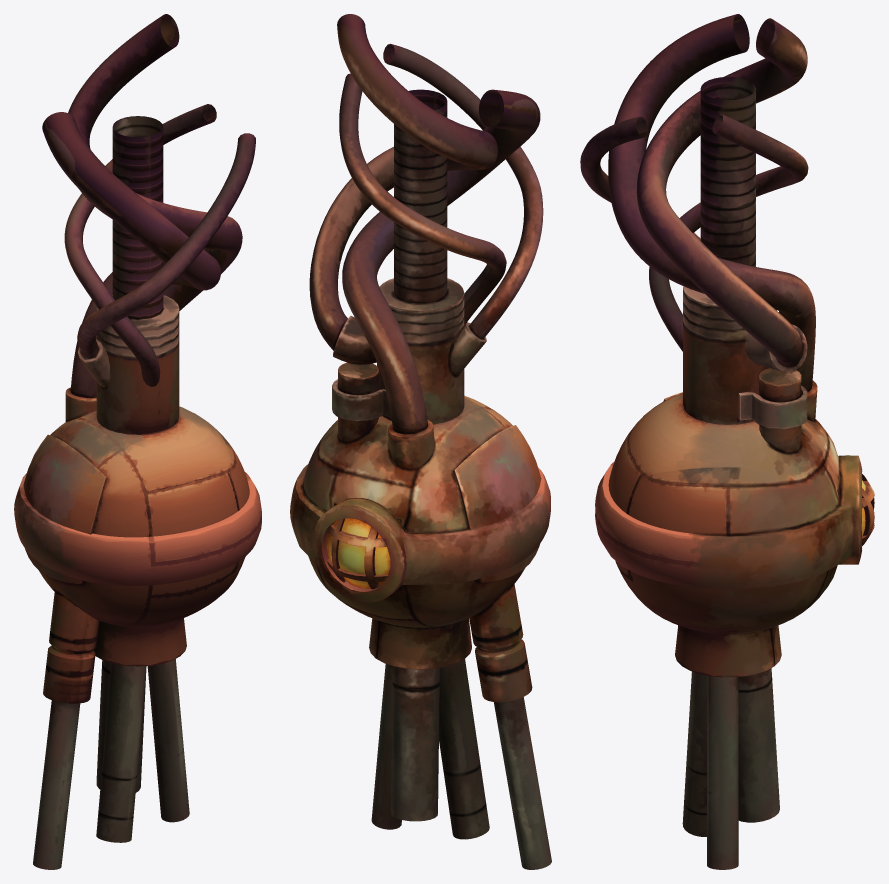
Rendered from f_boss_02.fbx.
The picture shows the model from 3 angles, left to right: view 1: azimuth 30°, elevation 25°; view 2: azimuth 150°, elevation 25°; view 3: azimuth 270°, elevation 25°; orthographic projection. The views are drawn at different scales.
Visible parts, largest first — view 1: f_boss_01; view 2: f_boss_01; view 3: f_boss_01.
Boxes of the visible parts, x1,y1,x2,y2 form: f_boss_01: (14, 14, 261, 869); f_boss_01: (290, 14, 551, 869); f_boss_01: (580, 14, 874, 869).
Size of the model in its own units: 8.45 by 29.36 by 9.02.
